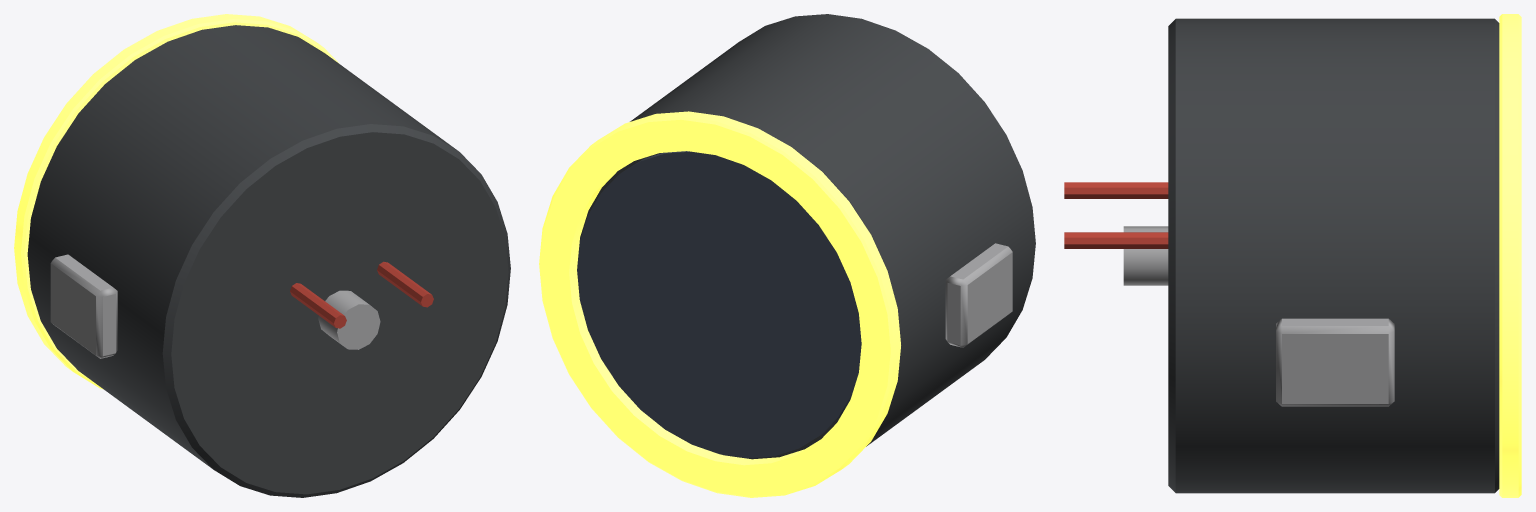
Rendered from robot_searchlight.glb.
3 views of the same model, side by side, from view 1: azimuth 30°, elevation 25°; view 2: azimuth 150°, elevation 25°; view 3: azimuth 270°, elevation 25° (orthographic). The views are drawn at different scales.
Visible parts, largest first — view 1: body; view 2: body; view 3: body.
Boxes of the visible parts, box(x1,y1,x2,y2) form: body: box(14, 14, 510, 497); body: box(539, 14, 1035, 497); body: box(1064, 14, 1521, 497).
Bounding box in the file's own units: 0.72 × 0.6528 × 0.616.
